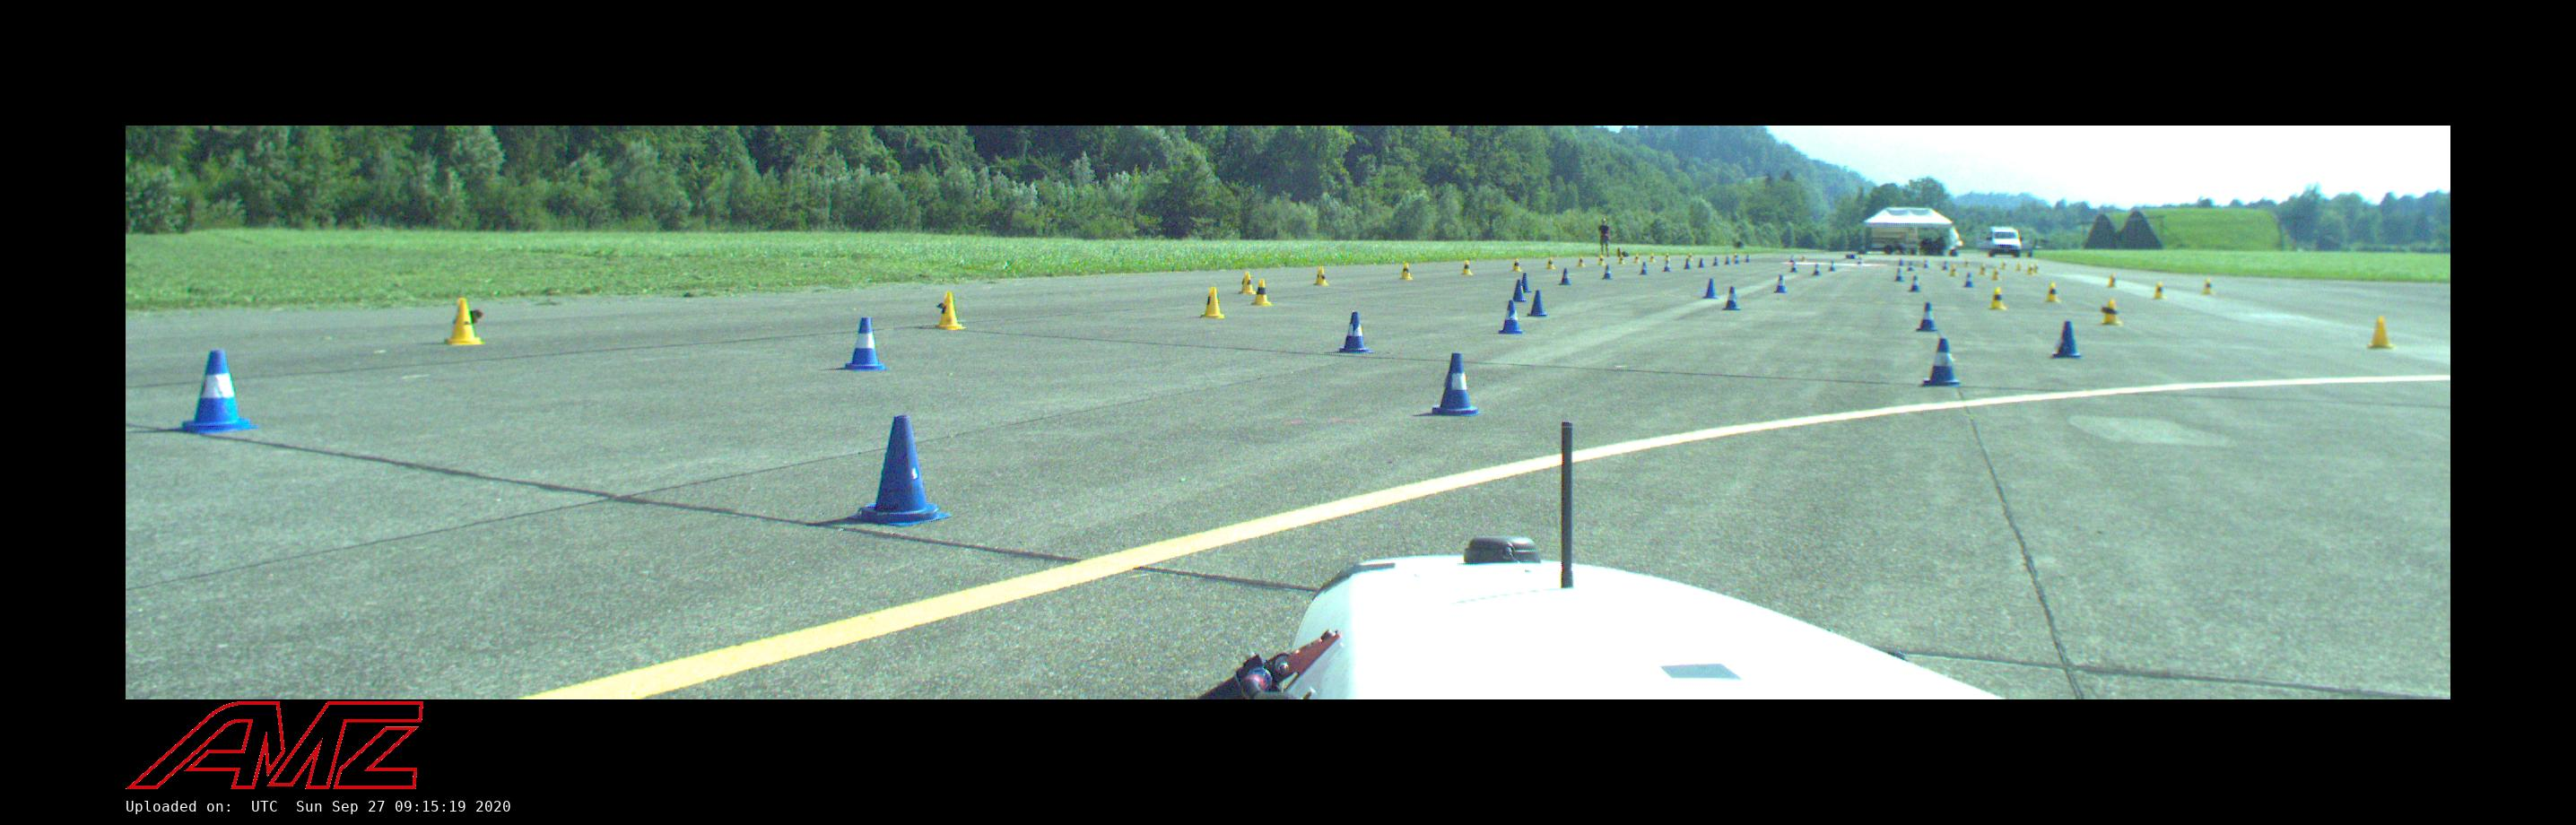blue_cone: (848, 414, 953, 528), (176, 348, 260, 432), (1429, 352, 1480, 416), (843, 317, 889, 370), (1921, 339, 1962, 386), (1336, 311, 1372, 352), (2050, 320, 2081, 358), (1498, 301, 1523, 334), (1916, 302, 1939, 330), (1528, 289, 1548, 317), (1722, 288, 1740, 311), (1511, 279, 1528, 302), (1702, 279, 1718, 299), (1773, 276, 1787, 293), (1521, 273, 1533, 293)
yellow_cone: (442, 297, 485, 345), (935, 291, 964, 329), (2366, 317, 2394, 348), (1199, 288, 1224, 319), (1252, 279, 1273, 306), (2101, 299, 2123, 324), (1986, 288, 2008, 311), (1237, 271, 1255, 294), (2044, 283, 2060, 302), (1314, 266, 1327, 286), (2152, 281, 2165, 299), (1400, 263, 1411, 279), (1460, 260, 1472, 274), (2201, 279, 2213, 293)
